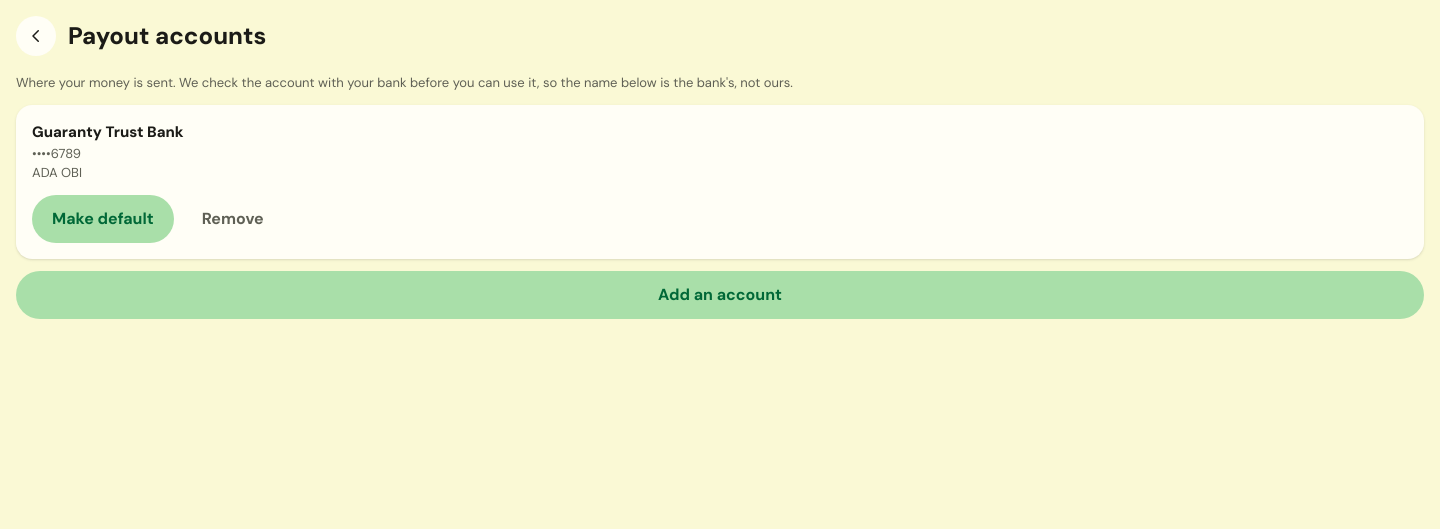
PayoutAccounts › asks for the password before removing an account
Click the button "Remove" at (233, 219), box 182,195 -> 284,243
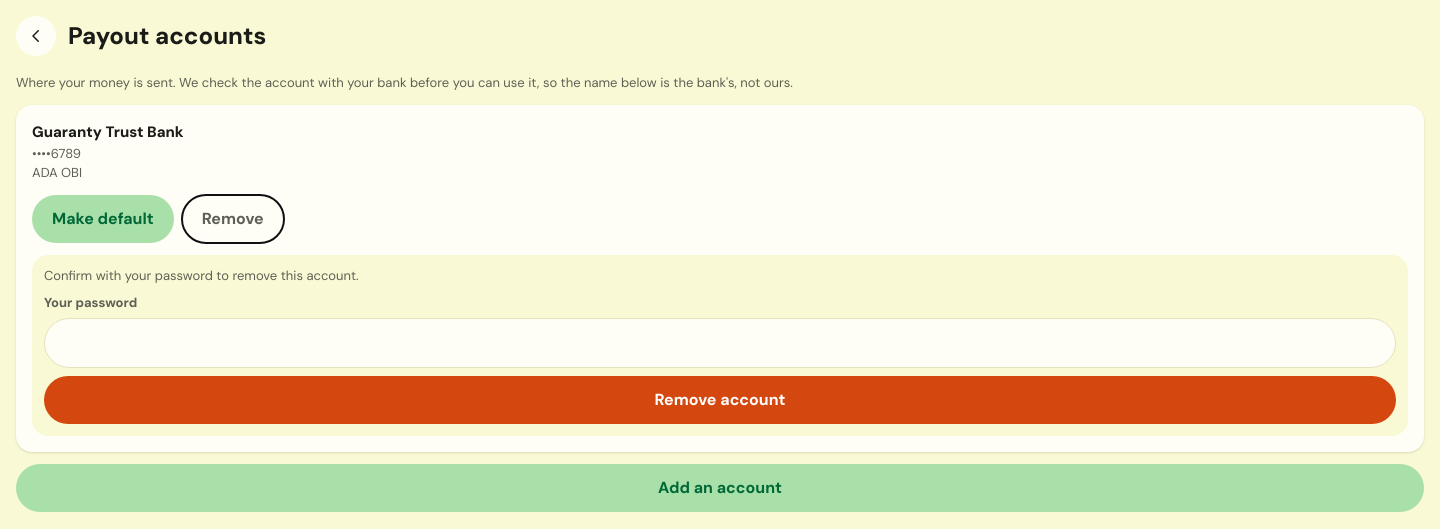
expect the password field labelled "Your password" is shown: met, box 61,319 -> 1379,367
expect the button "Remove account" is shown: met, box 44,376 -> 1396,424
